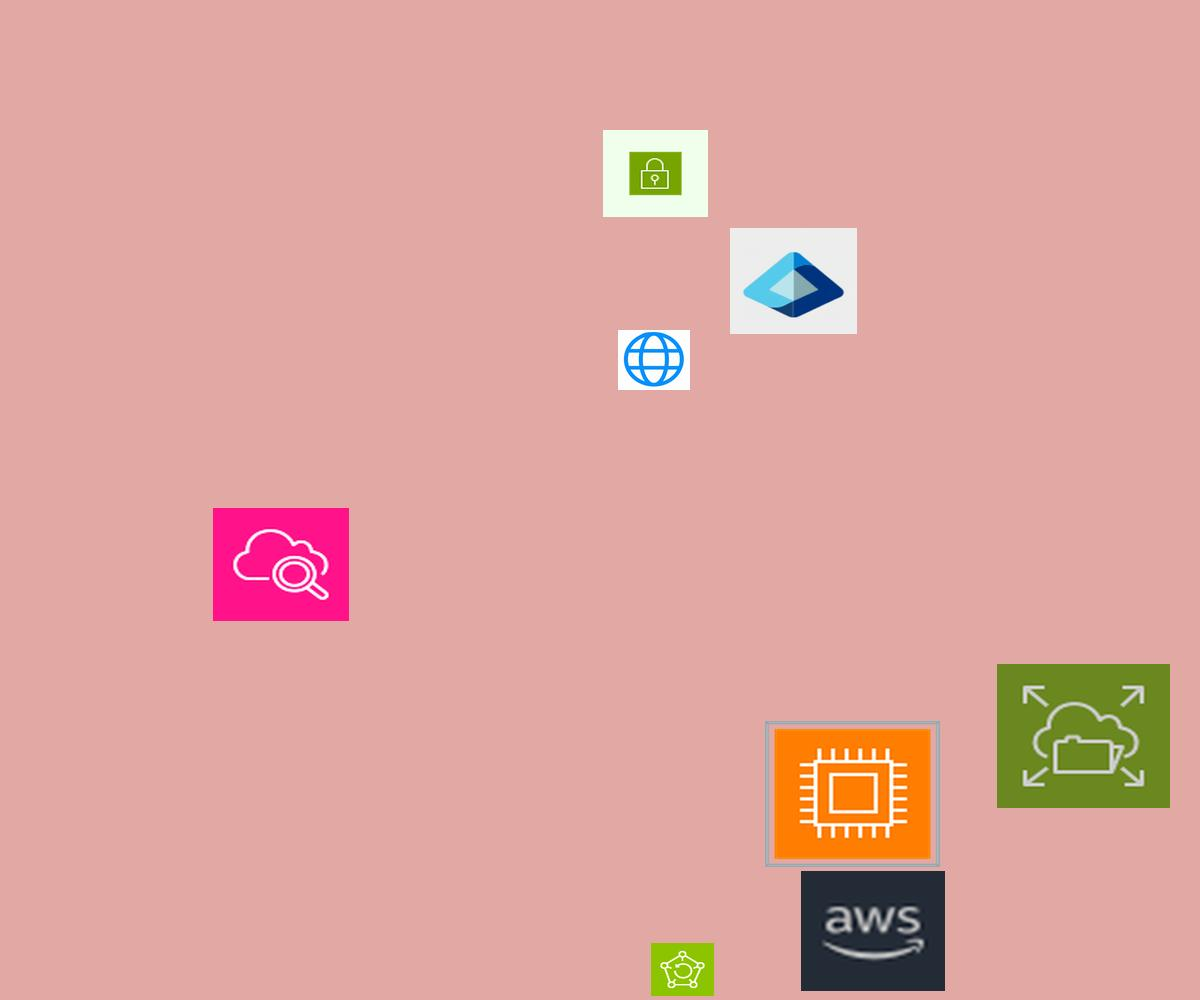AWS-Backup: (651, 943, 714, 996)
AWS-Category_Compute: (765, 721, 940, 867)
AWS-Cloud-logo: (801, 871, 945, 991)
AWS-CloudWatch: (213, 508, 349, 621)
AWS-EFS: (997, 664, 1170, 808)
AWS-Public-subnet: (603, 130, 708, 217)
Azure_http: (618, 330, 690, 390)
Azure_microsoft_entra: (730, 228, 857, 334)
